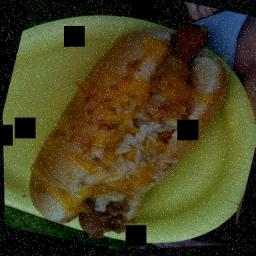hotdog: (69, 190, 134, 251), (165, 12, 215, 66)
